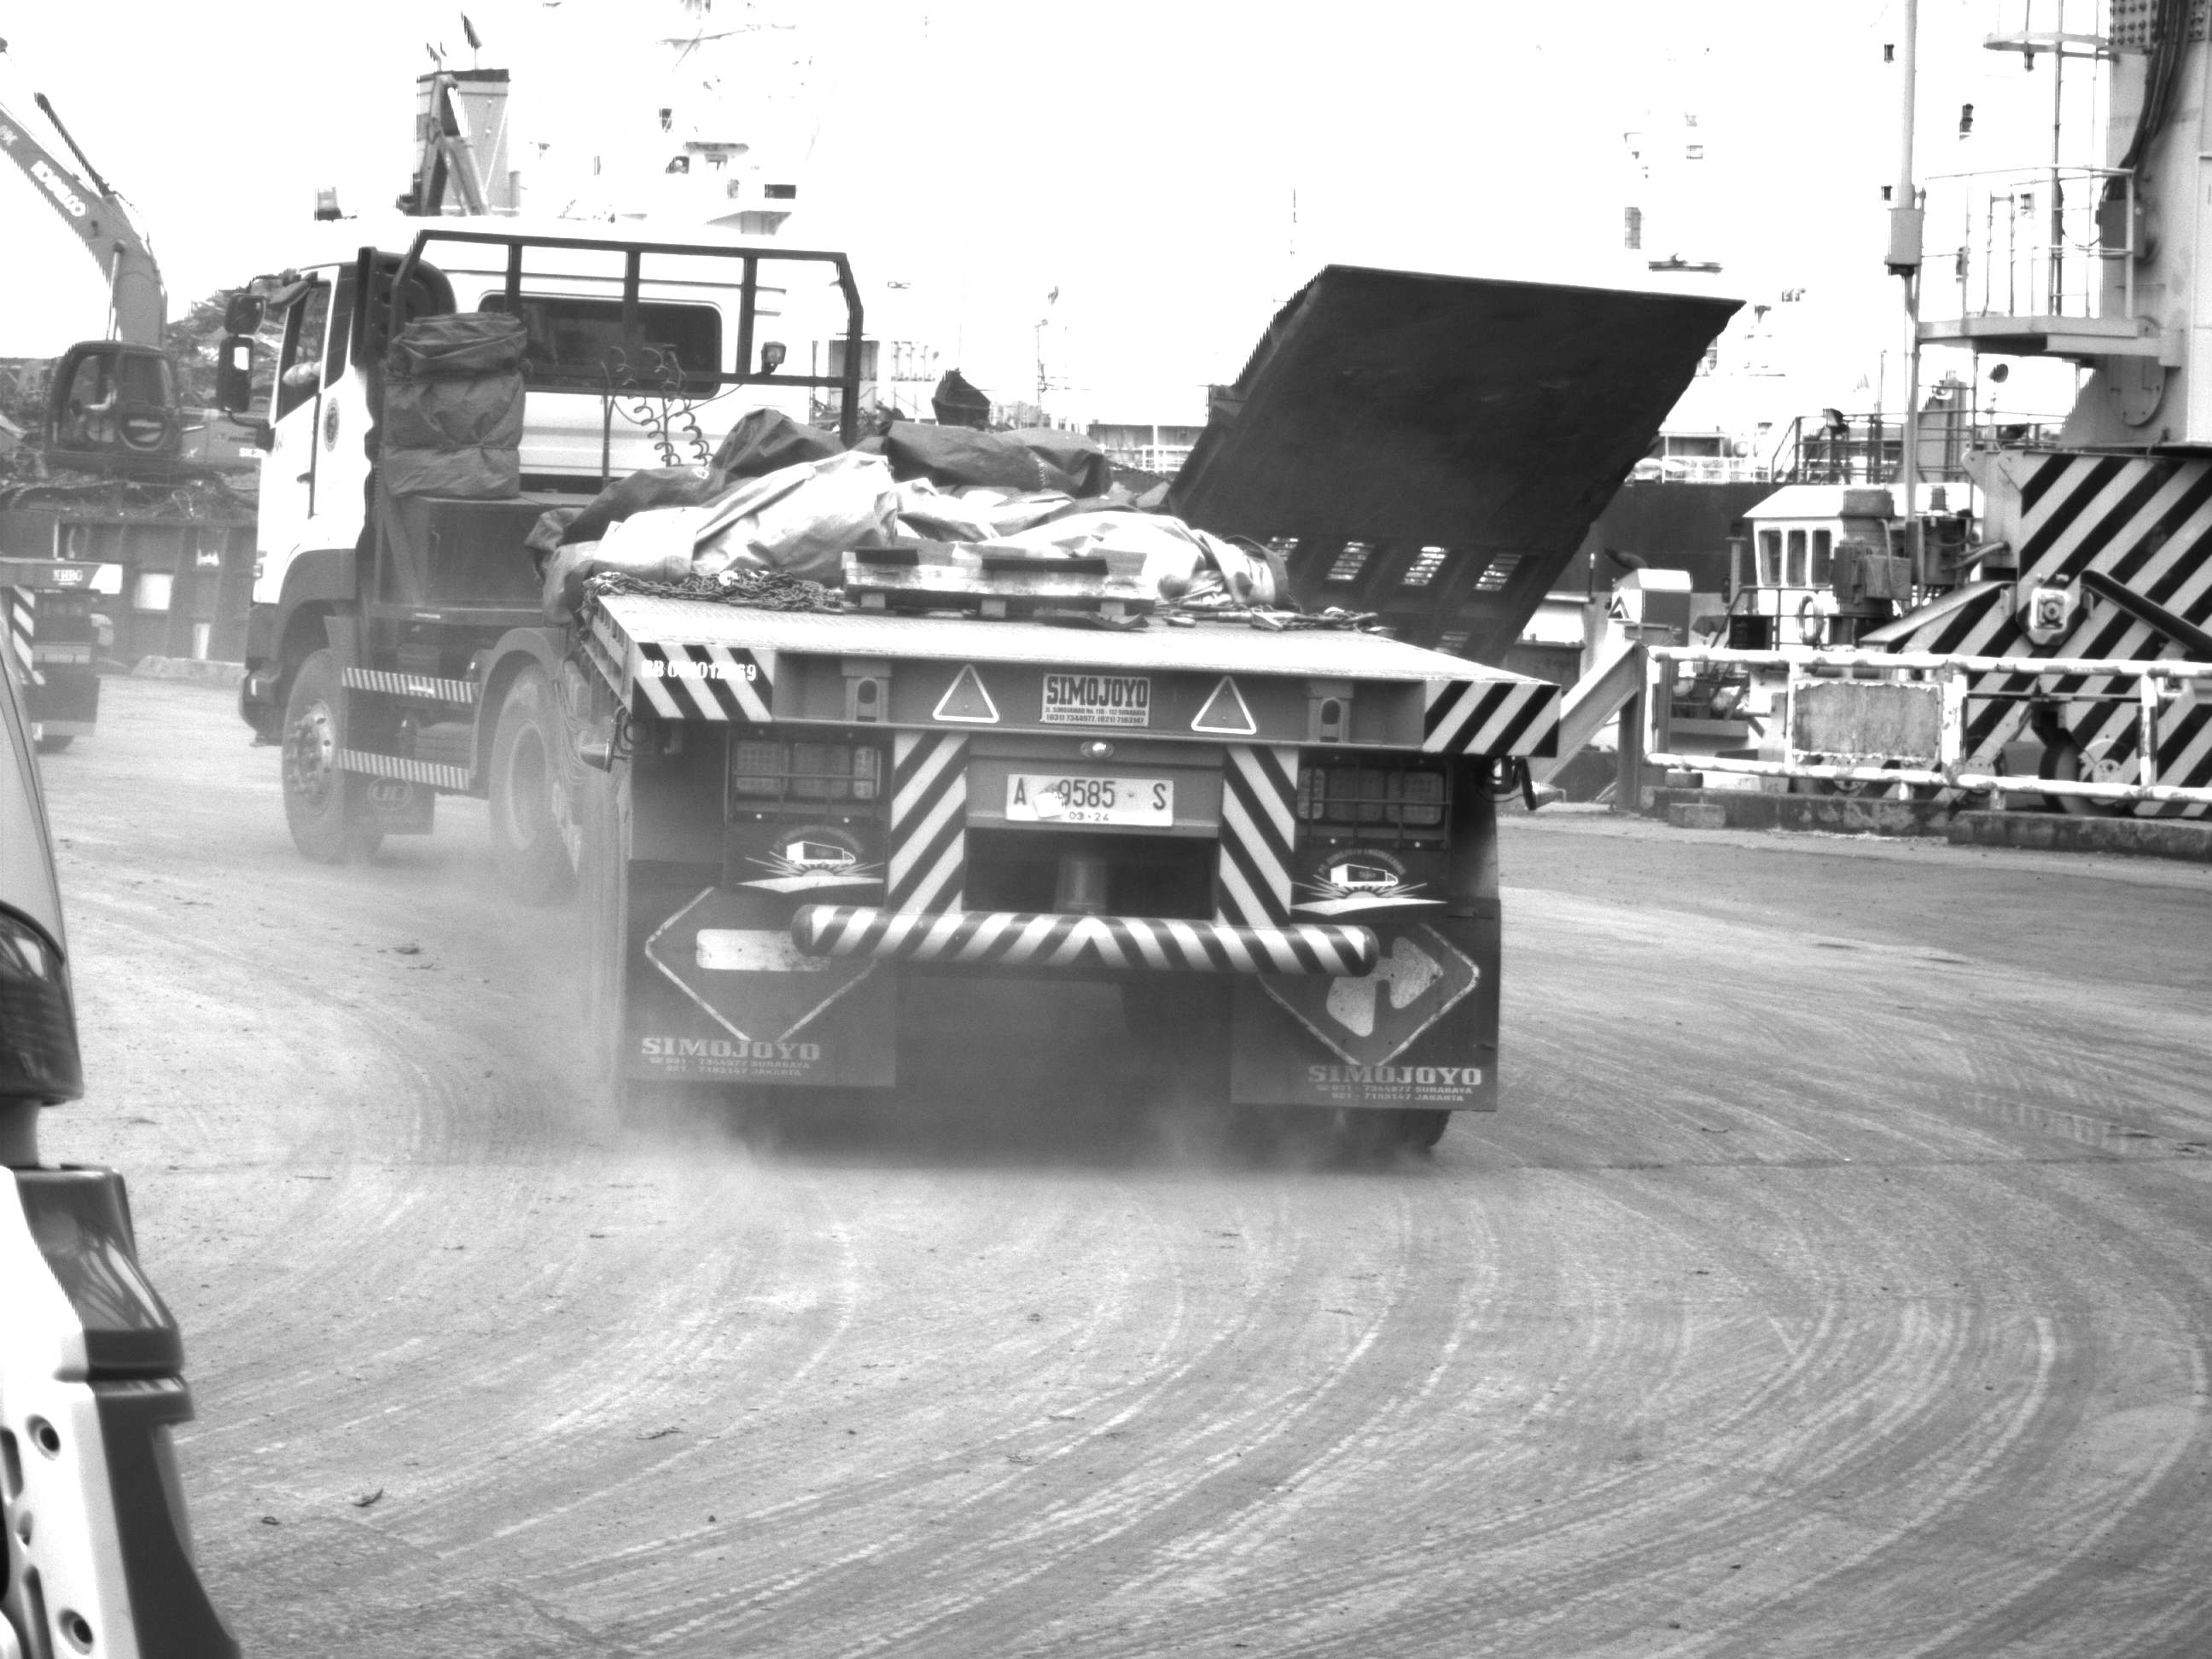number_plate: (1005, 773, 1178, 834)
truck_backside: (219, 192, 1560, 1190)
